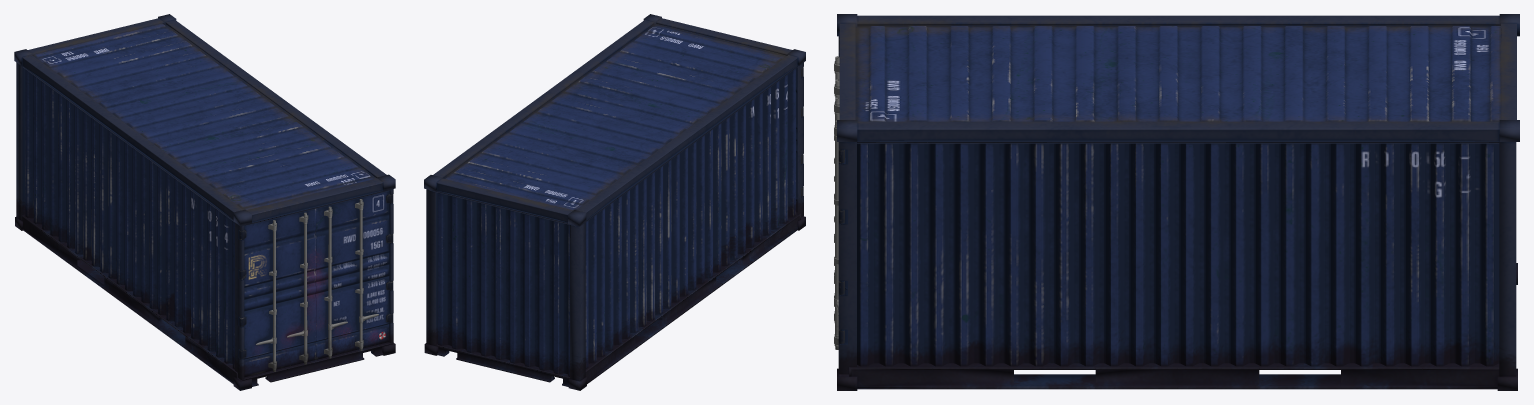
File: con_s.glb
The picture shows the model from 3 angles, left to right: view 1: azimuth 30°, elevation 25°; view 2: azimuth 150°, elevation 25°; view 3: azimuth 270°, elevation 25°; orthographic projection. The views are drawn at different scales.
Visible parts, largest first — view 1: Panel_R_LO, Roof_LO, Door_L_LO, Door_R_LO, Frame_Top_R_LO, Frame_Bottom_R_LO, Frame_Top_L_LO, Frame_Top_F_LO, Frame_Back_R_LO, Frame_Bottom_F_LO, Door_Hinge_R_LO, Frame_Top_B_LO (+5 smaller); view 2: Panel_R_LO, Roof_LO, Panel_Back_LO, Frame_Top_R_LO, Frame_Bottom_R_LO, Frame_Back_R_LO, Frame_Top_L_LO, Frame_Top_B_LO, Frame_Back_L_LO, Frame_Bottom_B_LO, Frame_Top_F_LO, Door_Hinge_R_LO; view 3: Panel_L_LO, Roof_LO, Frame_Bottom_L_LO, Frame_Top_L_LO, Frame_Top_R_LO, Frame_Back_L_LO, Door_Hinge_L_LO, Frame_Top_F_LO, Frame_Top_B_LO, Long_Bolt_Handle_2_L_LO.
Boxes of the visible parts, box(x1,y1,x2,y2) form: Panel_R_LO: box(25, 69, 239, 369); Roof_LO: box(33, 23, 376, 210); Door_L_LO: box(315, 191, 389, 359); Door_R_LO: box(243, 208, 316, 377); Frame_Top_R_LO: box(22, 55, 242, 222); Frame_Bottom_R_LO: box(22, 214, 237, 384); Frame_Top_L_LO: box(165, 20, 386, 177); Frame_Top_F_LO: box(244, 178, 390, 225); Frame_Back_R_LO: box(16, 61, 25, 220); Frame_Bottom_F_LO: box(237, 342, 393, 386); Door_Hinge_R_LO: box(235, 222, 244, 379); Frame_Top_B_LO: box(28, 18, 164, 55); Panel_R_LO: box(585, 68, 796, 368); Roof_LO: box(443, 24, 786, 210); Panel_Back_LO: box(437, 192, 569, 376); Frame_Top_R_LO: box(576, 55, 797, 221); Frame_Bottom_R_LO: box(585, 212, 800, 383); Frame_Back_R_LO: box(570, 222, 585, 381); Frame_Top_L_LO: box(433, 20, 654, 178); Frame_Top_B_LO: box(429, 178, 576, 226); Frame_Back_L_LO: box(426, 189, 437, 346); Frame_Bottom_B_LO: box(436, 344, 569, 386); Frame_Top_F_LO: box(656, 18, 792, 55); Door_Hinge_R_LO: box(797, 62, 803, 217); Panel_L_LO: box(847, 143, 1499, 366); Roof_LO: box(855, 25, 1500, 121); Frame_Bottom_L_LO: box(849, 363, 1499, 389); Frame_Top_L_LO: box(857, 121, 1499, 143); Frame_Top_R_LO: box(857, 15, 1499, 25); Frame_Back_L_LO: box(1499, 134, 1516, 376); Door_Hinge_L_LO: box(838, 142, 856, 374); Frame_Top_F_LO: box(839, 23, 855, 119); Frame_Top_B_LO: box(1501, 23, 1516, 119); Long_Bolt_Handle_2_L_LO: box(834, 120, 838, 349).
Bounding box in the file's own units: 239 × 255 × 604.
1 material, 1 textured.
